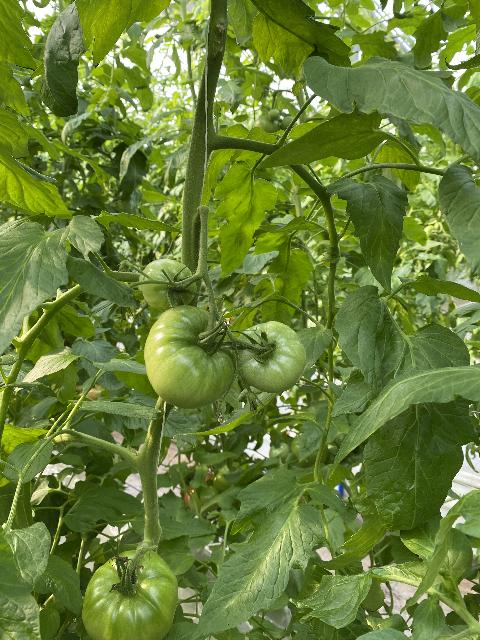b_green: (144, 305, 235, 409), (82, 549, 179, 640), (232, 321, 306, 393), (138, 258, 197, 311)
